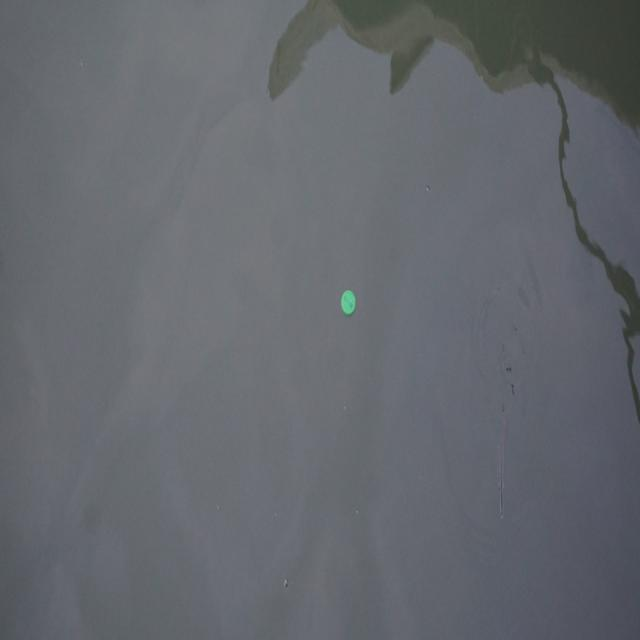Botol Plastik: (340, 286, 359, 320)
